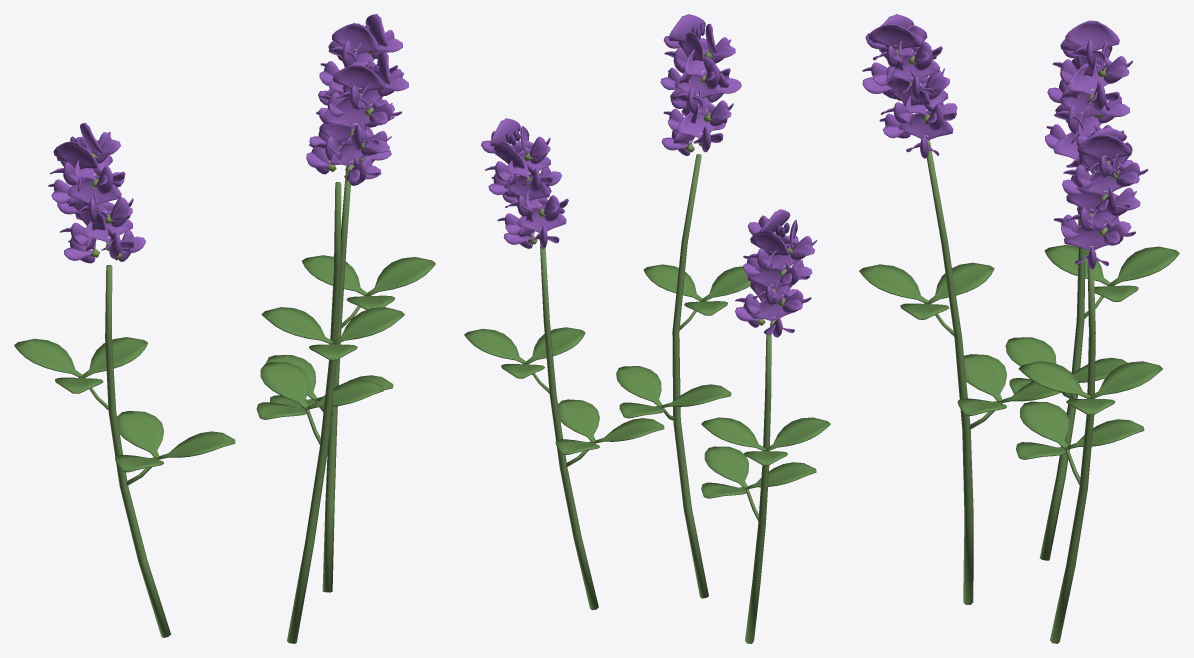
Rendered from flower-medicago.glb.
3 renders of one model, left to right at view 1: azimuth 30°, elevation 25°; view 2: azimuth 150°, elevation 25°; view 3: azimuth 270°, elevation 25°, orthographic. The views are drawn at different scales.
Parts seen in each view (by area): view 1: raceme_florets, leaves, stems, hero_petals; view 2: raceme_florets, leaves, stems; view 3: raceme_florets, leaves, stems.
Part boxes in pixels (x1,y1,x2,y2): raceme_florets: (48, 14, 408, 263); leaves: (14, 255, 435, 485); stems: (105, 165, 350, 643); hero_petals: (323, 98, 381, 129); raceme_florets: (481, 14, 816, 337); leaves: (464, 264, 830, 520); stems: (540, 154, 771, 643); raceme_florets: (862, 14, 1148, 269); leaves: (859, 245, 1179, 484); stems: (927, 146, 1095, 643).
Bounding box in the file's own units: 8.8 × 13.17 × 6.29.
